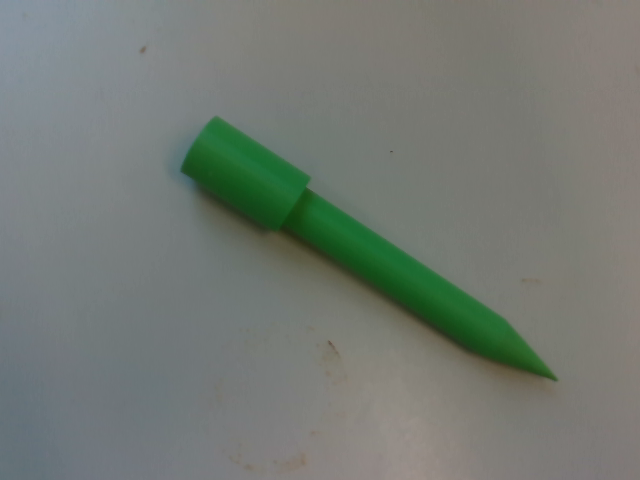Probe: (175, 112, 567, 384)
